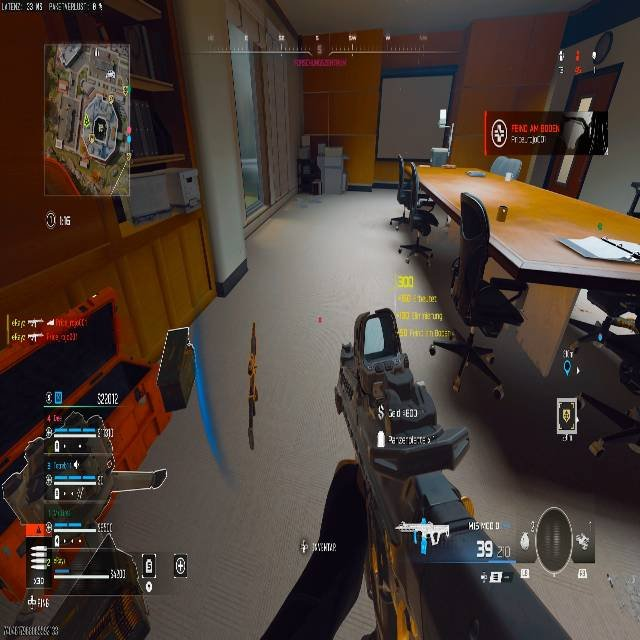head: (395, 164, 420, 201)
player: (0, 406, 149, 640), (435, 170, 528, 400), (294, 138, 321, 197)
